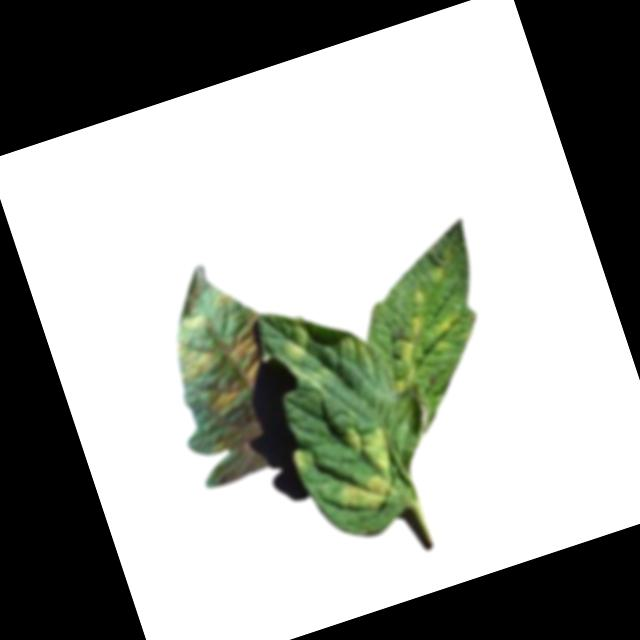Leaf_Mold: (156, 281, 285, 422), (366, 281, 475, 394), (322, 413, 407, 519), (270, 319, 315, 363), (288, 447, 315, 475)
